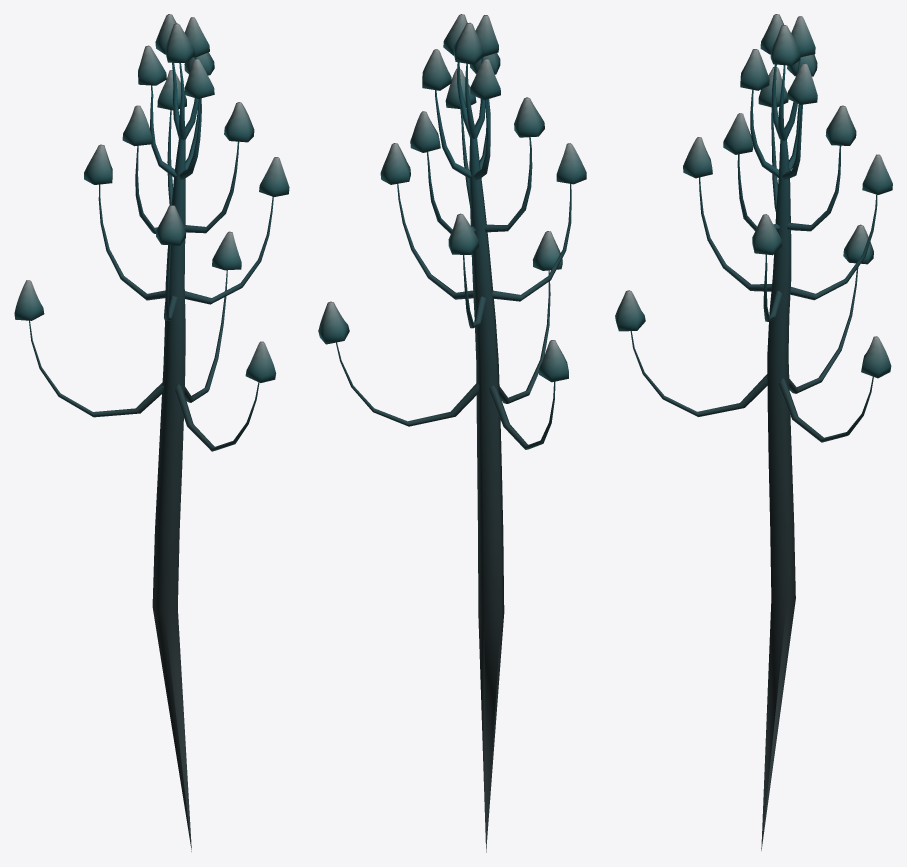
The model's file is plants-flowers-teal-bell-flower_v4.glb.
3 views of the same model, side by side, from view 1: azimuth 30°, elevation 25°; view 2: azimuth 150°, elevation 25°; view 3: azimuth 270°, elevation 25° (orthographic). The views are drawn at different scales.
Visible parts, largest first — view 1: Teal Bell Flower_v4; view 2: Teal Bell Flower_v4; view 3: Teal Bell Flower_v4.
Part boxes in pixels (<box>): Teal Bell Flower_v4: <box>14,14,289,851</box>; Teal Bell Flower_v4: <box>318,14,586,852</box>; Teal Bell Flower_v4: <box>615,14,892,850</box>.
Size of the model in its own units: 0.1788 by 0.6 by 0.1811.
